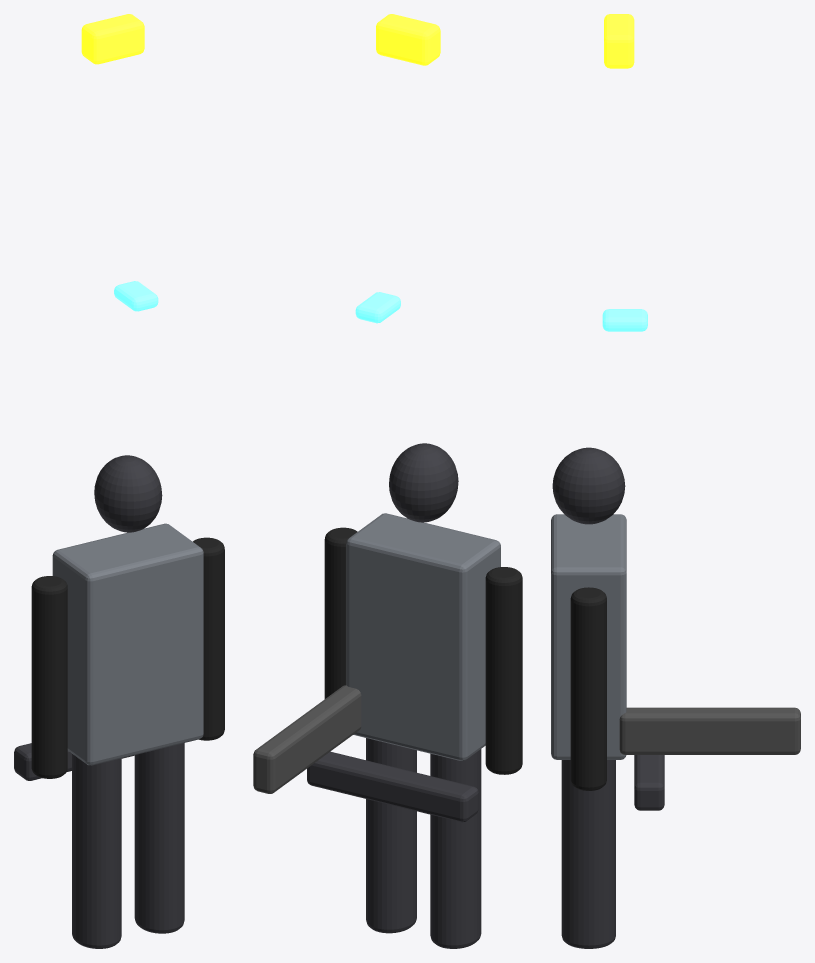
The model's file is player_visual.glb.
3 views of the same model, side by side, from view 1: azimuth 30°, elevation 25°; view 2: azimuth 150°, elevation 25°; view 3: azimuth 270°, elevation 25° (orthographic). The views are drawn at different scales.
Visible parts, largest first — view 1: Body, Leg_R, Leg_L, Arm_L, Arm_R, Head, Visor, Indicator, Hands; view 2: Body, Leg_L, Arm_L, Leg_R, Hands, Weapon, Head, Arm_R, Visor, Indicator; view 3: Body, Leg_R, Weapon, Arm_R, Head, Hands, Visor, Indicator.
Boxes of the visible parts, x1,y1,x2,y2 form: Body: [52, 523, 203, 765]; Leg_R: [134, 743, 184, 933]; Leg_L: [72, 754, 121, 948]; Arm_L: [31, 576, 67, 778]; Arm_R: [193, 537, 224, 740]; Head: [94, 455, 162, 532]; Visor: [81, 14, 144, 64]; Indicator: [114, 281, 158, 311]; Hands: [14, 743, 134, 780]; Body: [346, 513, 500, 760]; Leg_L: [430, 749, 481, 948]; Arm_L: [485, 567, 522, 774]; Leg_R: [366, 738, 416, 933]; Hands: [307, 751, 478, 822]; Weapon: [253, 685, 361, 793]; Head: [389, 443, 458, 522]; Arm_R: [324, 527, 357, 698]; Visor: [376, 14, 440, 65]; Indicator: [355, 292, 400, 323]; Body: [551, 514, 626, 759]; Leg_R: [561, 760, 615, 948]; Weapon: [619, 707, 800, 754]; Arm_R: [570, 587, 606, 790]; Head: [552, 447, 625, 524]; Hands: [634, 755, 664, 810]; Visor: [604, 14, 634, 68]; Indicator: [602, 309, 647, 331].
Bounding box in the file's own units: 0.72 × 3.28 × 0.825.
